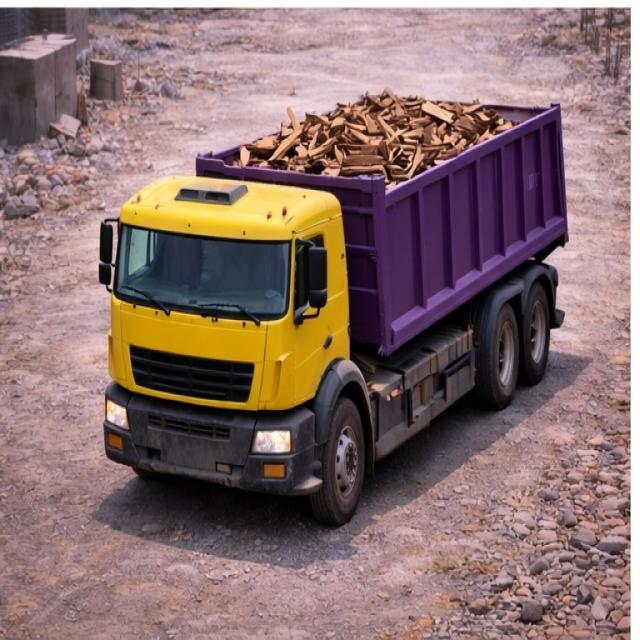trailer: (193, 93, 566, 202)
truck: (96, 69, 575, 525)
